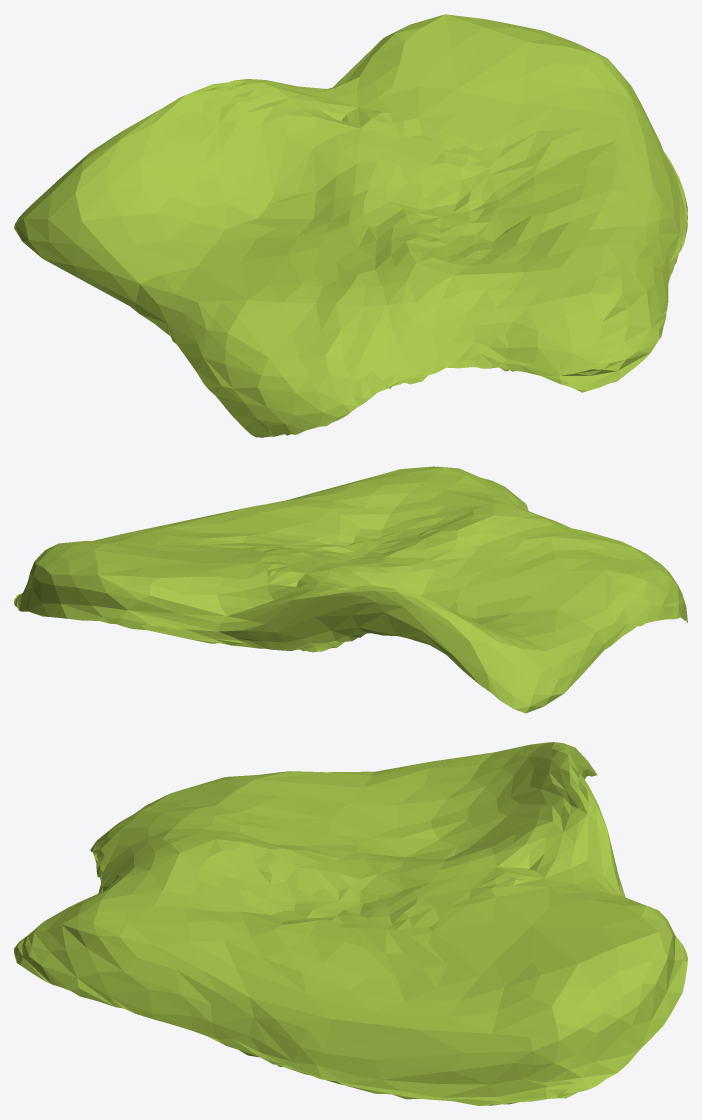
Rendered from hill_006.glb.
3 renders of one model, top to bottom at view 1: azimuth 30°, elevation 25°; view 2: azimuth 150°, elevation 25°; view 3: azimuth 270°, elevation 25°, orthographic. The views are drawn at different scales.
Visible parts, largest first — view 1: hill_006; view 2: hill_006; view 3: hill_006.
Part boxes in pixels (<box>): hill_006: <box>14,14,687,437</box>; hill_006: <box>14,466,687,713</box>; hill_006: <box>14,742,687,1105</box>.
Size of the model in its own units: 104 by 25.49 by 97.13.
1 material, 1 textured.
